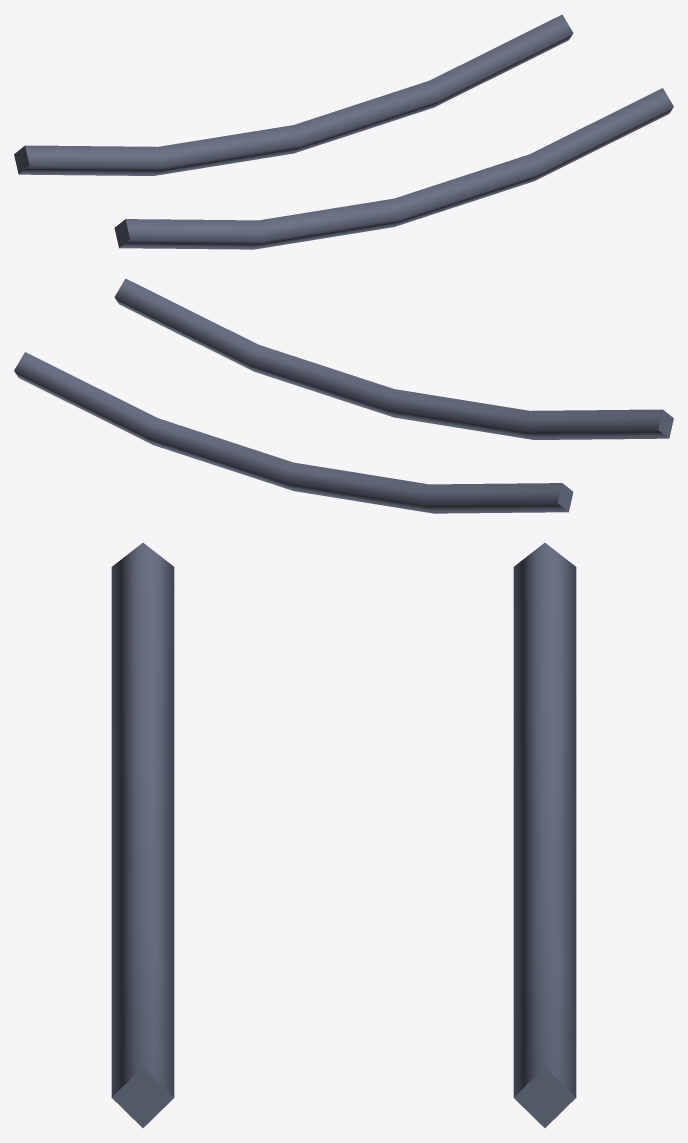
Rendered from electricity-wires.glb.
The picture shows the model from 3 angles, top to bottom: view 1: azimuth 30°, elevation 25°; view 2: azimuth 150°, elevation 25°; view 3: azimuth 270°, elevation 25°; orthographic projection. The views are drawn at different scales.
Visible parts, largest first — view 1: electricity-wires; view 2: electricity-wires; view 3: electricity-wires.
Boxes of the visible parts, x1,y1,x2,y2 form: electricity-wires: [14, 14, 673, 249]; electricity-wires: [14, 278, 673, 513]; electricity-wires: [111, 542, 576, 1127].
Bounding box in the file's own units: 0.5059 × 0.0647 × 0.185.
1 material, 1 textured.
